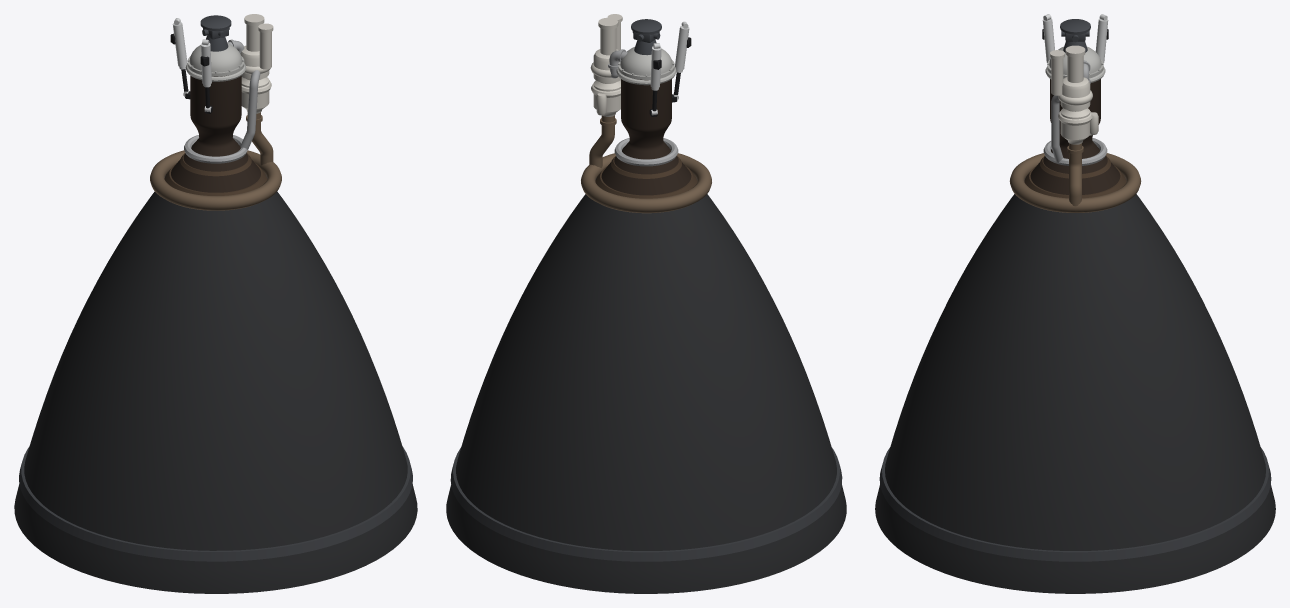
File: k1_vacuum.glb
3 renders of one model, left to right at view 1: azimuth 30°, elevation 25°; view 2: azimuth 150°, elevation 25°; view 3: azimuth 270°, elevation 25°, orthographic.
Parts seen in each view (by area): view 1: K1V_NozzleExtension, K1V_RegenNozzle, K1V_ExtensionRings, K1V_ExhaustManifold, K1V_Turbopump, K1V_PropellantLines, K1V_InjectorDome, K1V_Actuators, K1V_RegenBands, K1V_GimbalMount; view 2: K1V_NozzleExtension, K1V_RegenNozzle, K1V_ExtensionRings, K1V_ExhaustManifold, K1V_Turbopump, K1V_InjectorDome, K1V_Actuators, K1V_RegenBands, K1V_PropellantLines, K1V_GimbalMount; view 3: K1V_NozzleExtension, K1V_ExtensionRings, K1V_ExhaustManifold, K1V_Turbopump, K1V_RegenNozzle, K1V_PropellantLines, K1V_RegenBands, K1V_Actuators, K1V_GimbalMount, K1V_InjectorDome.
Boxes of the visible parts, x1,y1,x2,y2 form: K1V_NozzleExtension: (14,191,417,593); K1V_RegenNozzle: (171,75,260,192); K1V_ExtensionRings: (19,174,412,561); K1V_ExhaustManifold: (150,112,281,210); K1V_Turbopump: (240,14,273,113); K1V_PropellantLines: (184,39,260,163); K1V_InjectorDome: (185,43,246,81); K1V_Actuators: (170,18,212,113); K1V_RegenBands: (164,153,267,195); K1V_GimbalMount: (200,15,231,51); K1V_NozzleExtension: (446,194,846,593); K1V_RegenNozzle: (601,79,691,195); K1V_ExtensionRings: (450,178,842,561); K1V_ExhaustManifold: (581,115,711,213); K1V_Turbopump: (590,14,622,116); K1V_InjectorDome: (616,47,676,85); K1V_Actuators: (649,21,691,116); K1V_RegenBands: (595,156,697,198); K1V_PropellantLines: (608,49,678,166); K1V_GimbalMount: (631,19,661,55); K1V_NozzleExtension: (875,194,1275,593); K1V_ExtensionRings: (879,177,1271,561); K1V_ExhaustManifold: (1009,143,1141,212); K1V_Turbopump: (1050,45,1098,144); K1V_RegenNozzle: (1030,79,1120,194); K1V_PropellantLines: (1043,60,1107,165); K1V_RegenBands: (1024,155,1126,198); K1V_Actuators: (1042,14,1108,62); K1V_GimbalMount: (1060,19,1090,52); K1V_InjectorDome: (1045,46,1105,82).
Bounding box in the file's own units: 3 × 4 × 3.
